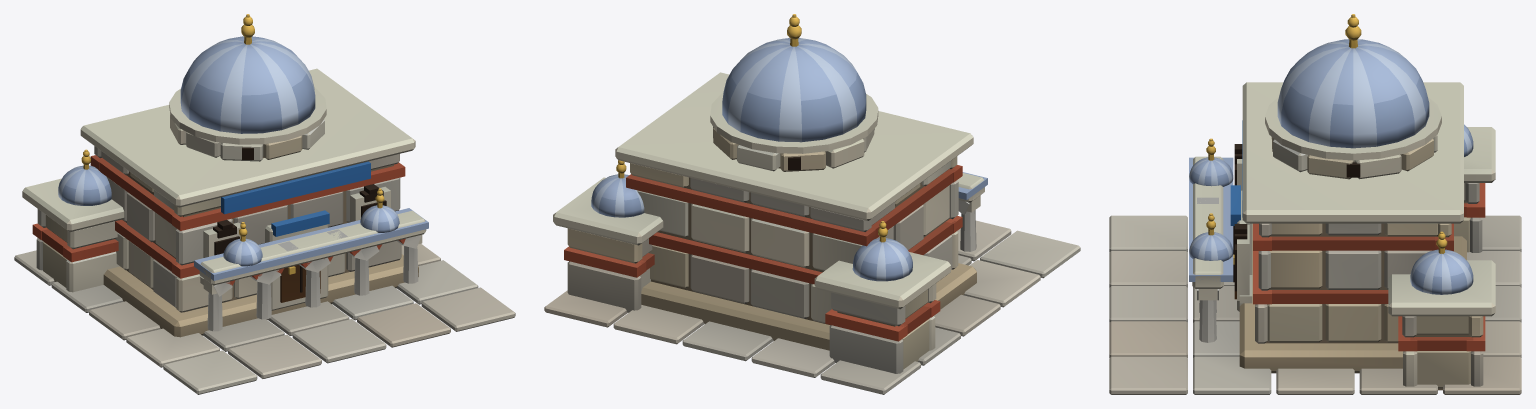
The model's file is b_school.glb.
The picture shows the model from 3 angles, left to right: view 1: azimuth 30°, elevation 25°; view 2: azimuth 150°, elevation 25°; view 3: azimuth 270°, elevation 25°; orthographic projection. The views are drawn at different scales.
Visible parts, largest first — view 1: b_school, L2, L3; view 2: b_school, L2; view 3: b_school, L2, L3.
Boxes of the visible parts, left/top/right/bottom form: b_school: left=14, top=14, right=515, bottom=394; L2: left=22, top=149, right=124, bottom=292; L3: left=221, top=161, right=399, bottom=266; b_school: left=544, top=14, right=1080, bottom=394; L2: left=553, top=160, right=950, bottom=373; b_school: left=1109, top=14, right=1521, bottom=394; L2: left=1388, top=124, right=1495, bottom=390; L3: left=1189, top=120, right=1242, bottom=261.
Size of the model in its own units: 0.67 by 0.5134 by 0.652.
